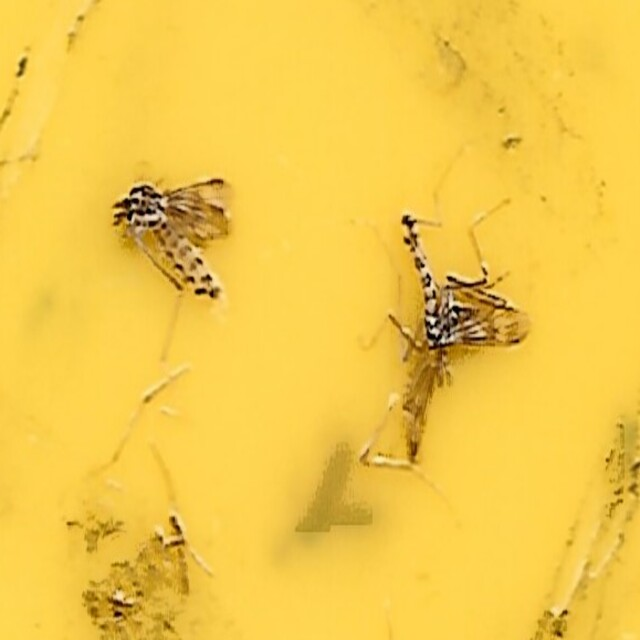Nematocera: (395, 207, 529, 466), (111, 174, 231, 304)
